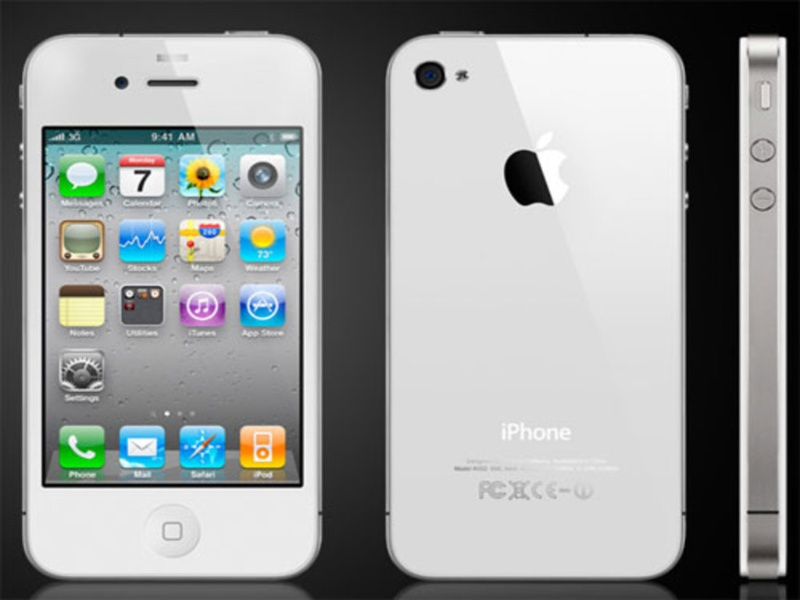cellphone: (372, 23, 699, 586), (13, 24, 338, 585), (728, 30, 792, 584)
